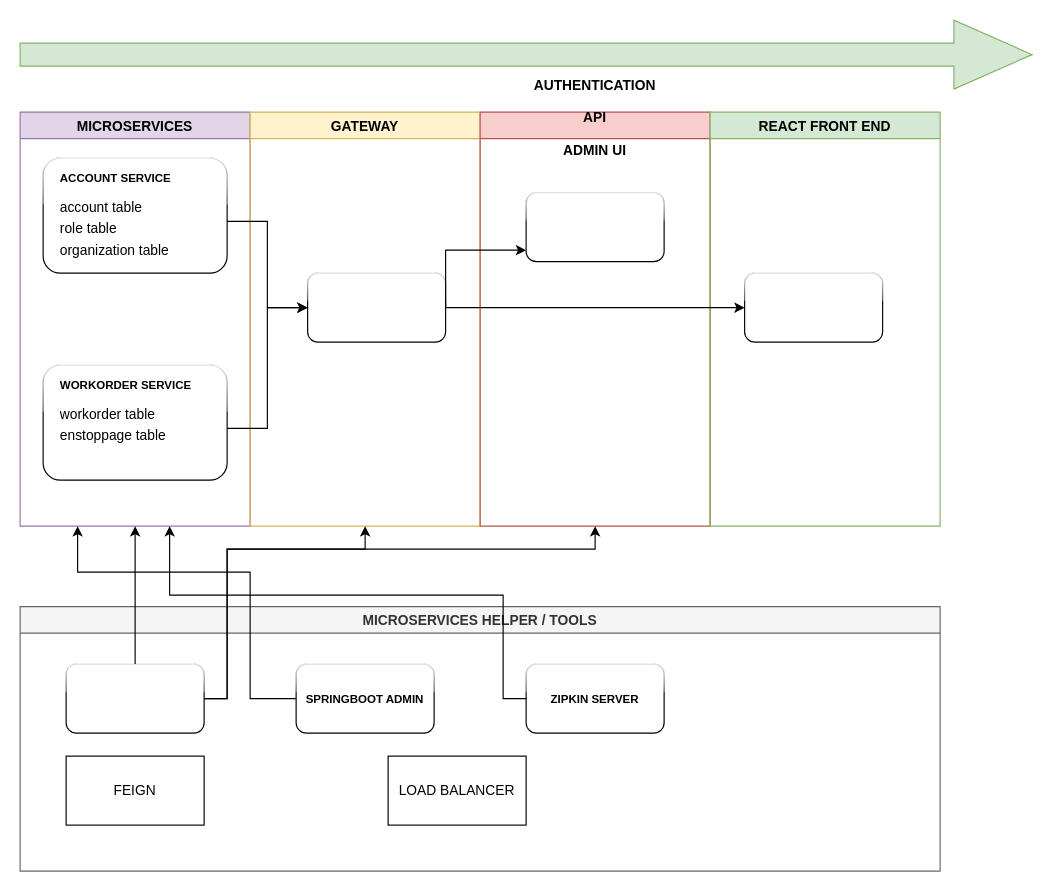
Image size: 1052x891. Some labels were removed from this diagram. Each missing label, with the centre of its shape:
EDGE SERVICE: (376,307)
REACT UI: (813,307)
SERVICE REGISTRY: (134,698)
USER INTERFACE: (594,226)
